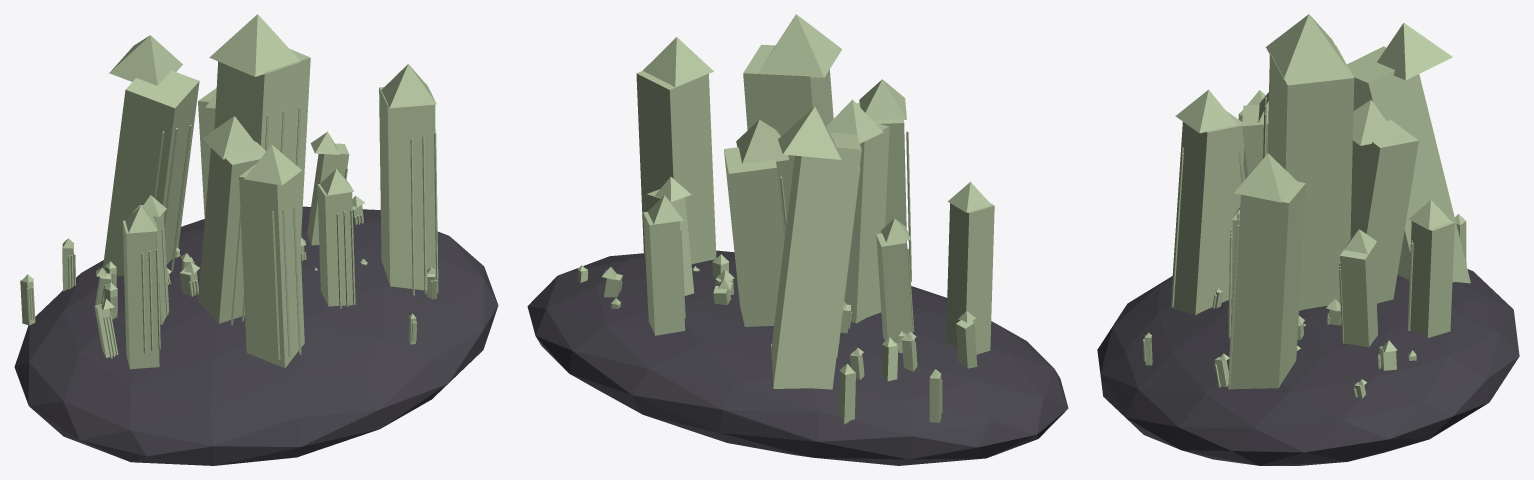
The model's file is spodumene.glb.
3 renders of one model, left to right at view 1: azimuth 30°, elevation 25°; view 2: azimuth 150°, elevation 25°; view 3: azimuth 270°, elevation 25°, orthographic. The views are drawn at different scales.
Parts seen in each view (by area): view 1: Spodumene; view 2: Spodumene; view 3: Spodumene.
Part boxes in pixels (x1,y1,x2,y2): Spodumene: (14, 14, 498, 465); Spodumene: (527, 14, 1068, 465); Spodumene: (1097, 14, 1519, 465).
Size of the model in its own units: 3.96 by 3.18 by 3.03.
